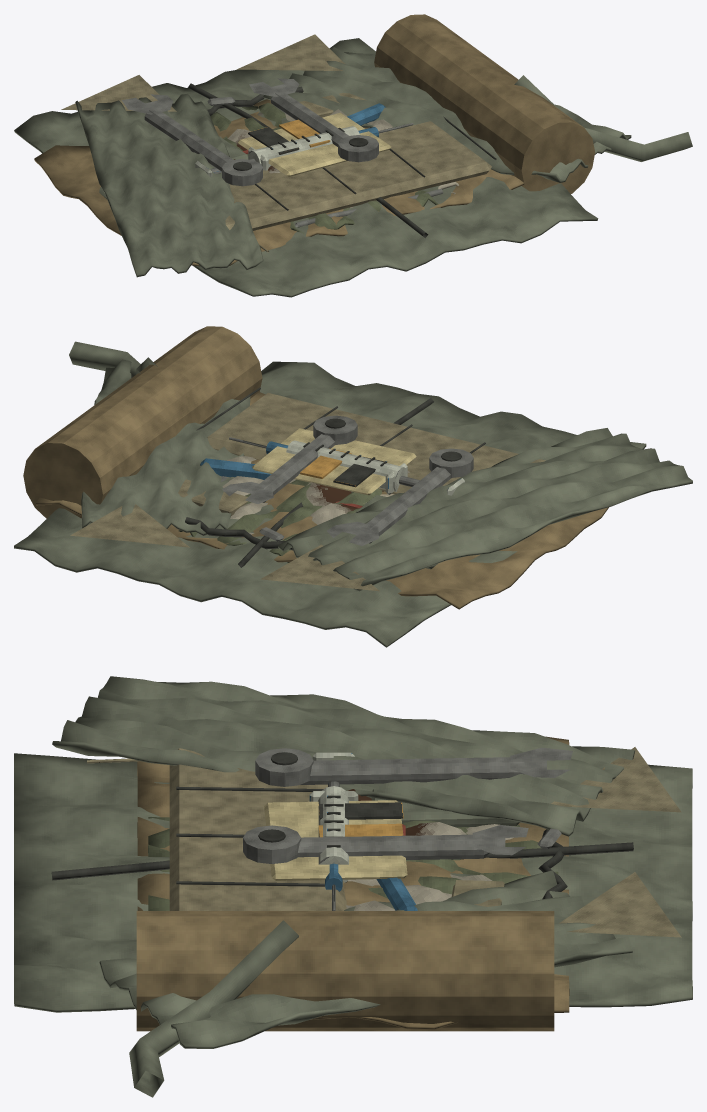
Rendered from crew_life_props.glb.
3 renders of one model, top to bottom at view 1: azimuth 30°, elevation 25°; view 2: azimuth 150°, elevation 25°; view 3: azimuth 270°, elevation 25°, orthographic. The views are drawn at different scales.
Visible parts, largest first — view 1: WorkJacketMesh, ToolRollMesh, RationPouchMesh, UsedSyringeTrayMesh, OilyRagMesh; view 2: WorkJacketMesh, ToolRollMesh, RationPouchMesh, UsedSyringeTrayMesh, OilyRagMesh; view 3: WorkJacketMesh, ToolRollMesh, RationPouchMesh, UsedSyringeTrayMesh, OilyRagMesh.
Part boxes in pixels (x1,y1,x2,y2): WorkJacketMesh: (14,34,631,297); ToolRollMesh: (34,14,692,266); RationPouchMesh: (207,86,443,233); UsedSyringeTrayMesh: (195,103,413,177); OilyRagMesh: (220,109,458,208); WorkJacketMesh: (14,359,692,647); ToolRollMesh: (23,326,608,609); RationPouchMesh: (178,428,416,562); UsedSyringeTrayMesh: (200,437,464,503); OilyRagMesh: (222,456,409,534); WorkJacketMesh: (14,676,692,1048); ToolRollMesh: (129,736,572,1097); RationPouchMesh: (148,800,567,910); UsedSyringeTrayMesh: (309,752,417,910); OilyRagMesh: (346,789,513,910).
Bounding box in the file's own units: 0.4731 × 0.0666 × 0.3493.
34 materials, 34 textured.
